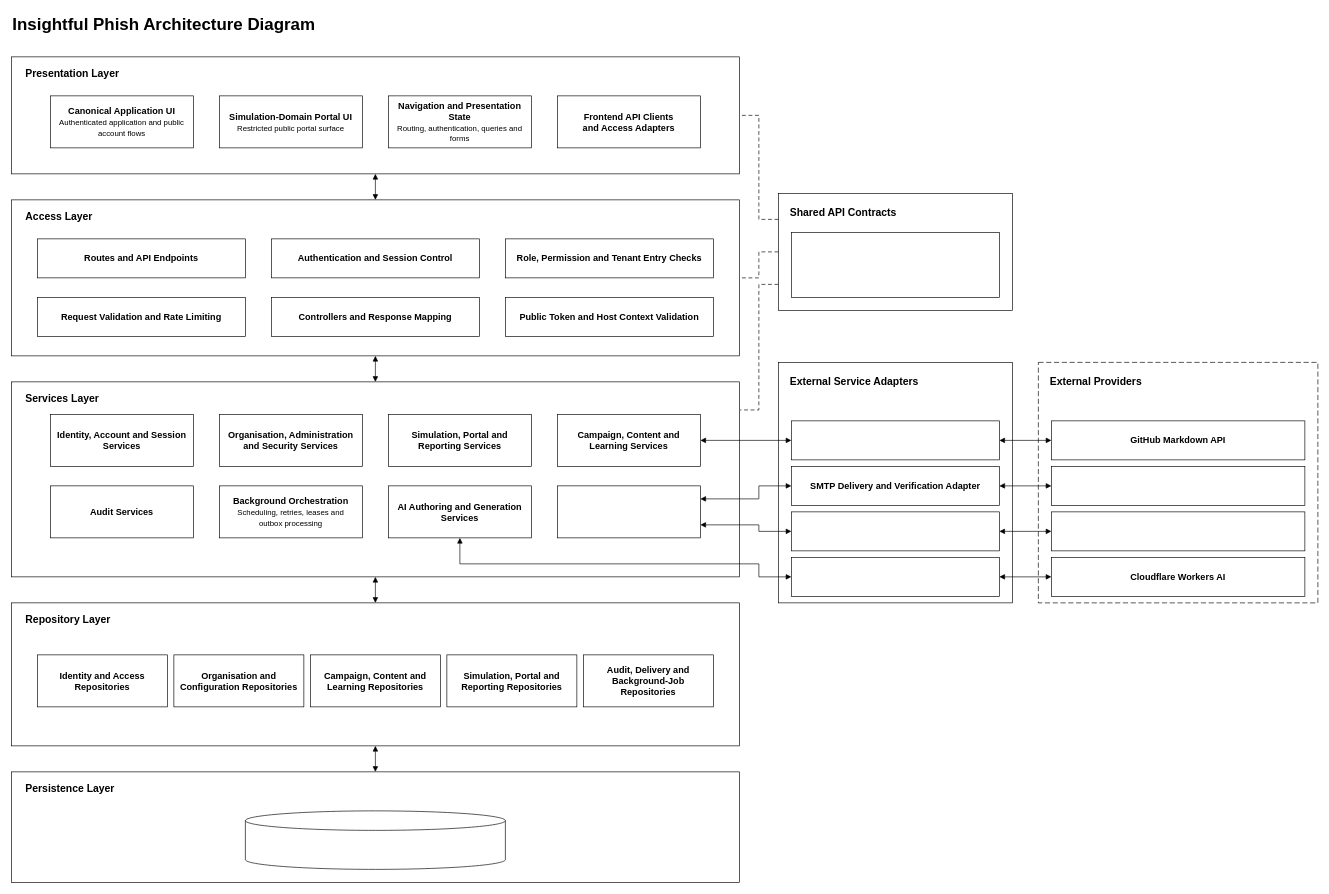
Image size: 1329x894. Some labels were removed from this diagram. The shapes that lost their labels are listed below. From the top down, each one's centre as x and y in pixels, then its label:
At point (895, 264): "Contracts and Validation Zod schemas DTOs Enums and stable registries".
At point (895, 440): "Markdown Rendering Adapter".
At point (1178, 485): "Platform and Organisation SMTP Providers".
At point (628, 511): "Email, SMTP Profile and Delivery Services".
At point (895, 531): "Credential Secret-Store Adapter".
At point (1178, 531): "Infisical".
At point (895, 576): "AI Generation Provider Adapter".
At point (375, 839): "PostgreSQL Durable relational state accessed through Prisma repositories".
